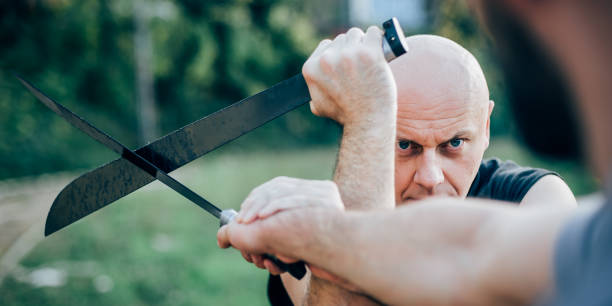knife: (44, 17, 408, 239), (17, 76, 308, 280)
